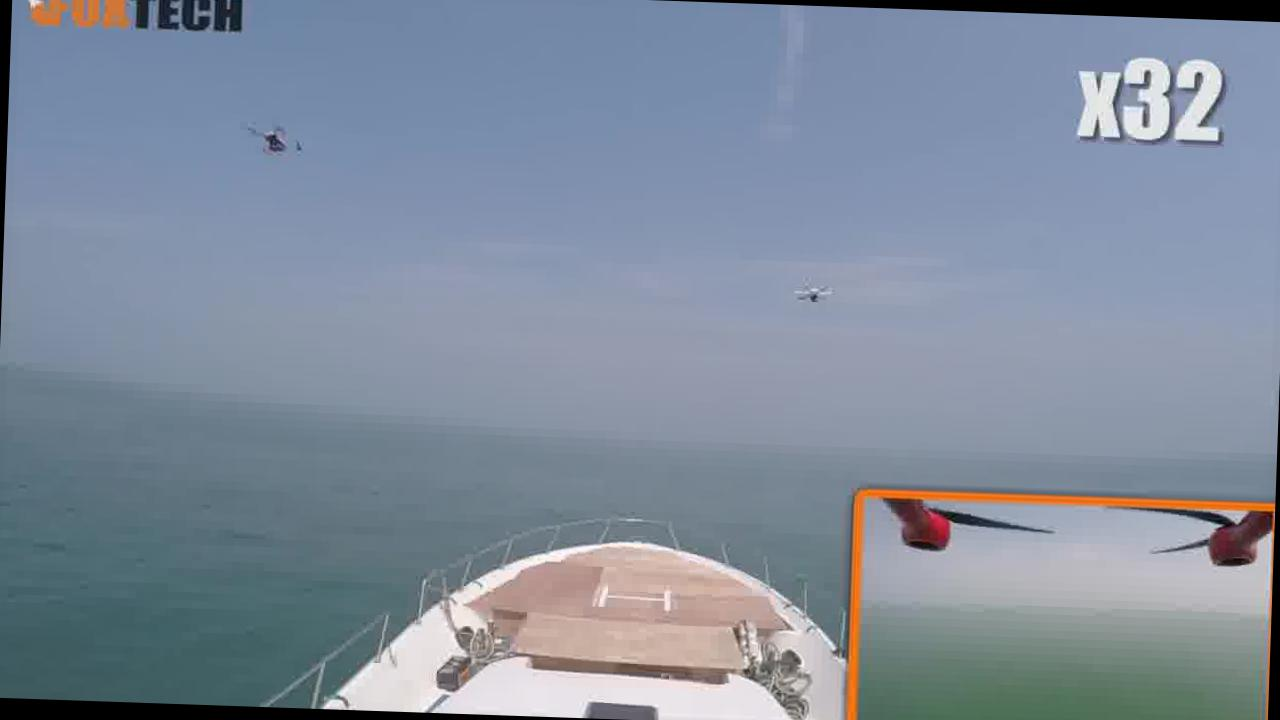drone: (222, 110, 322, 176), (776, 264, 836, 312)
